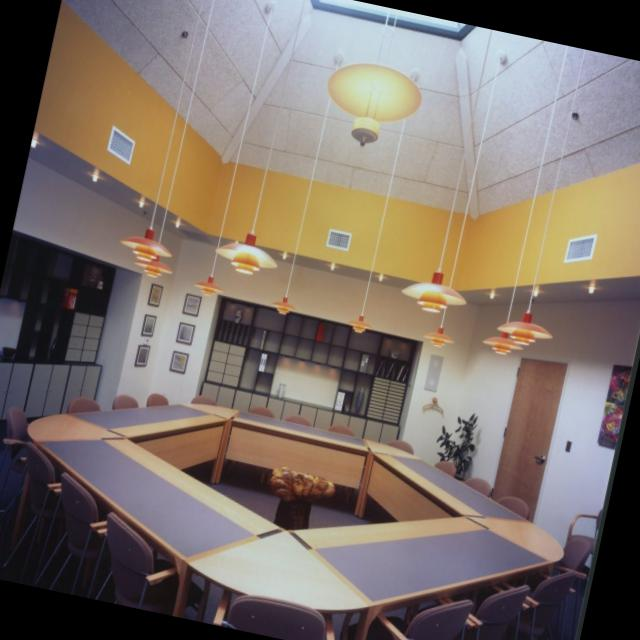back of chair: (498, 494, 530, 519), (464, 476, 492, 496), (68, 394, 99, 412), (434, 458, 458, 477), (112, 391, 140, 407), (389, 438, 414, 454), (146, 391, 169, 405), (330, 422, 355, 434), (288, 412, 312, 424), (251, 404, 275, 416), (191, 392, 215, 404)
books crop: (335, 390, 347, 411), (359, 353, 370, 372), (259, 352, 268, 371)
cabinet door: (202, 294, 421, 443), (0, 227, 117, 433)
ceiling beam: (62, 0, 640, 222)
ceiling vent: (172, 216, 186, 231), (531, 286, 544, 301), (586, 284, 599, 299), (485, 289, 498, 301), (30, 135, 40, 150), (87, 172, 100, 183), (136, 197, 146, 210), (378, 271, 388, 283), (328, 261, 338, 272), (280, 249, 289, 260)
chair -occluded-: (213, 590, 335, 640)
chairs desk: (0, 405, 211, 621), (367, 570, 590, 640), (557, 506, 602, 573)
door bars: (489, 352, 571, 522)
floor -X: (207, 482, 367, 529)
hanger: (421, 395, 446, 416)
light switch: (564, 438, 574, 453)
light switch plate: (214, 0, 308, 274), (424, 50, 507, 348), (480, 63, 564, 356), (130, 0, 217, 281), (497, 66, 584, 346), (193, 0, 275, 296), (400, 46, 490, 315), (118, 0, 205, 260), (270, 50, 346, 314), (347, 68, 420, 333), (324, 10, 422, 148)
object: (422, 351, 446, 393)
painting crop: (597, 362, 637, 452)
picture crop: (175, 319, 197, 345), (181, 292, 203, 317), (169, 349, 190, 374), (147, 282, 165, 307), (141, 312, 158, 336), (134, 343, 151, 366)
plant -x: (435, 408, 480, 478)
sculpture -X: (269, 463, 336, 529)
sky: (311, 0, 474, 40)
table -X: (27, 403, 564, 640)
thermostat: (143, 336, 150, 344)
vase -X: (353, 385, 365, 414), (233, 307, 243, 322), (278, 381, 287, 397)
vent -x: (105, 122, 137, 168), (564, 232, 600, 263), (323, 226, 354, 253)
wall clock: (13, 1, 640, 595)
